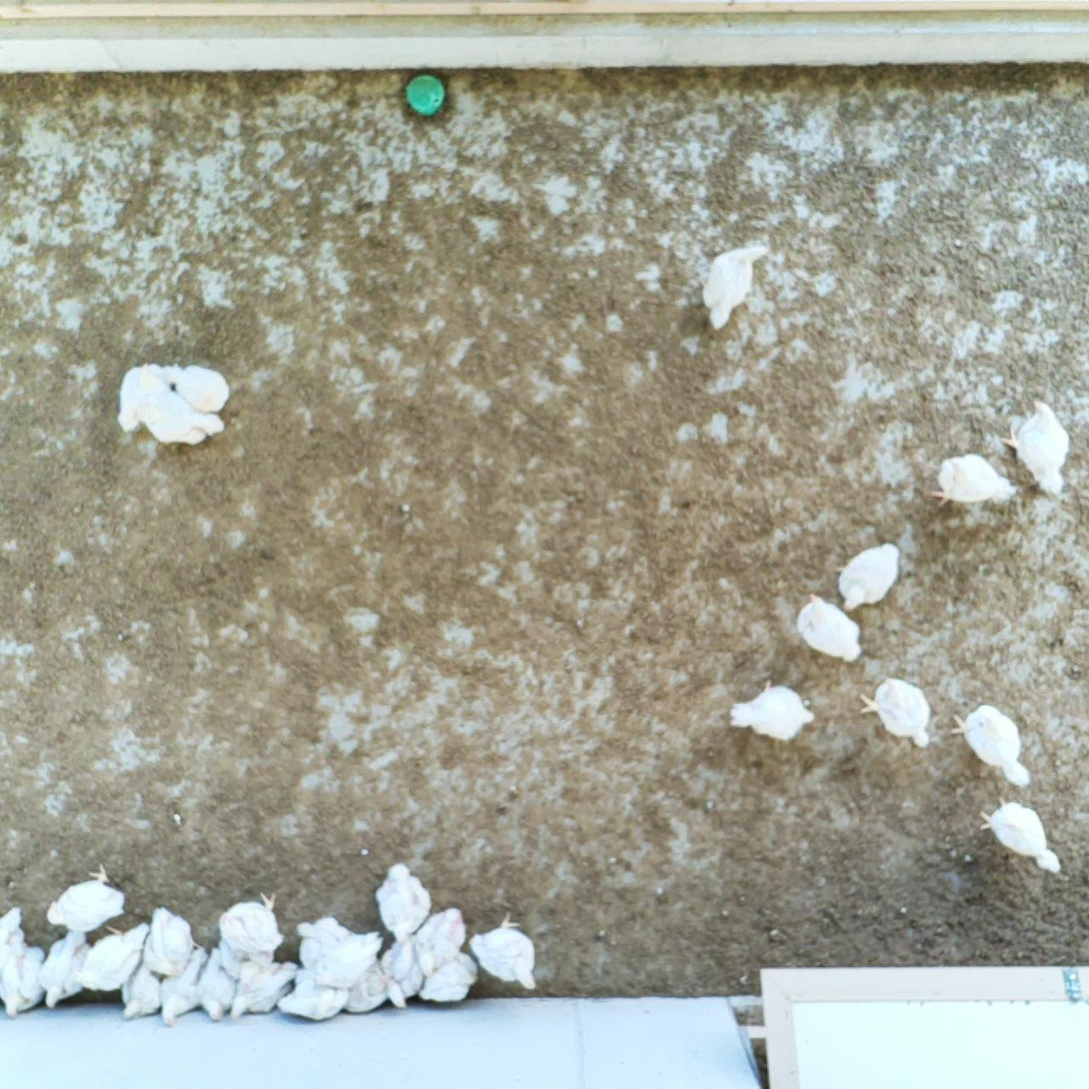chicken: (949, 698, 1036, 788), (1004, 391, 1072, 498), (976, 798, 1062, 875), (700, 244, 771, 335), (725, 678, 822, 742), (140, 378, 226, 448), (46, 864, 127, 938), (856, 672, 933, 749), (78, 918, 157, 993), (469, 913, 539, 996), (926, 451, 1016, 515), (792, 591, 862, 669), (371, 864, 435, 946), (830, 542, 902, 613), (230, 954, 306, 1021), (44, 923, 102, 1010), (293, 914, 381, 968), (311, 926, 385, 990), (155, 942, 207, 1029), (216, 891, 286, 955), (115, 366, 178, 433), (141, 901, 193, 982), (411, 906, 469, 976), (277, 971, 352, 1025), (158, 358, 232, 412), (416, 943, 479, 1006), (117, 948, 168, 1023), (194, 943, 241, 1024), (328, 961, 389, 1017), (10, 946, 53, 1018), (0, 905, 26, 1022), (378, 960, 431, 1010), (376, 934, 425, 981)
